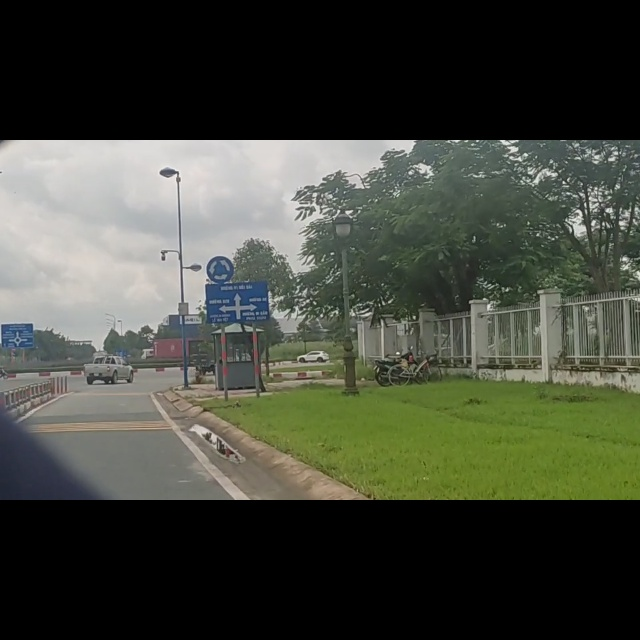bien_hieu_lenh: (205, 204, 234, 256)
